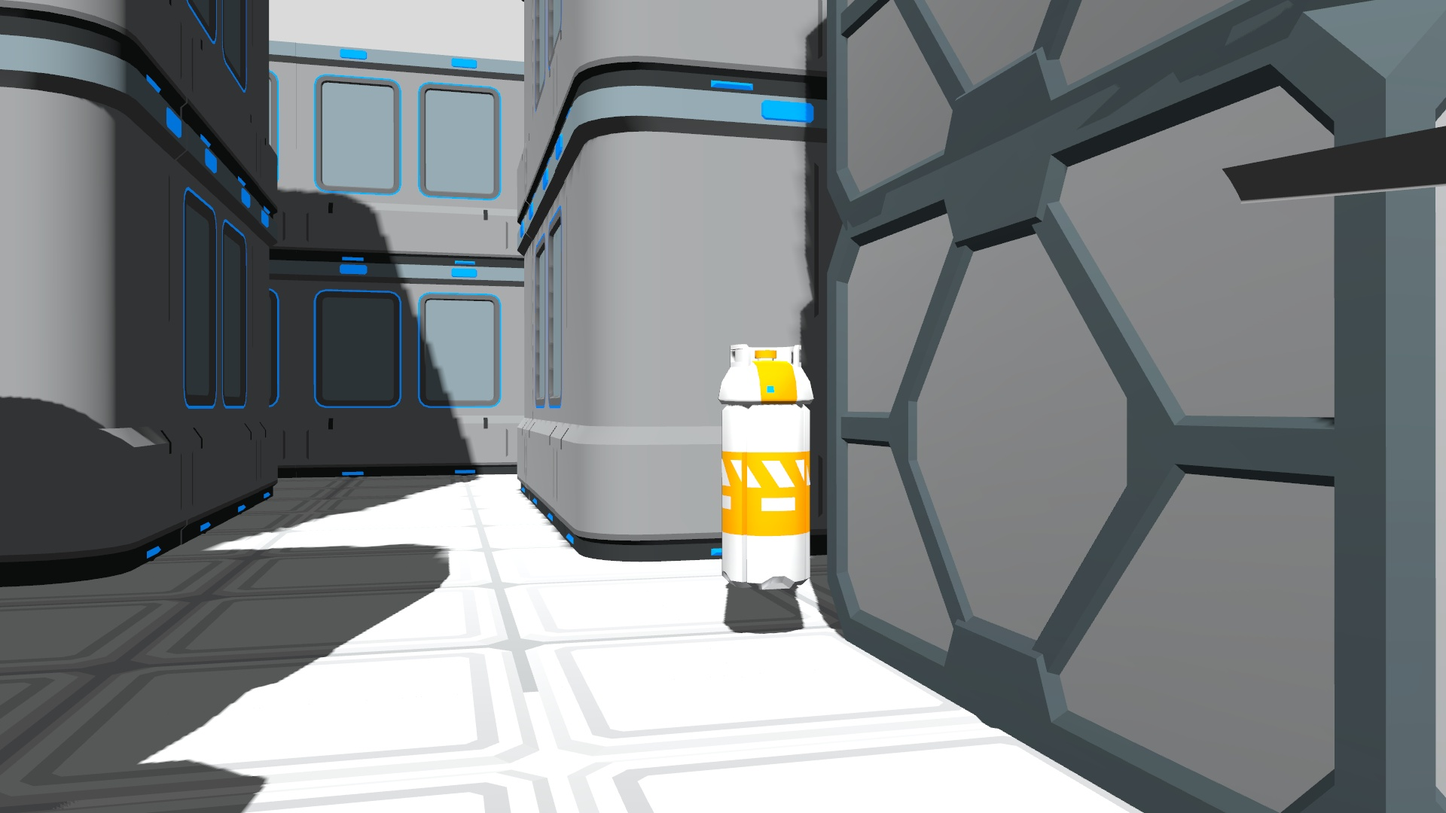yellow_barrel: (715, 335, 818, 602)
